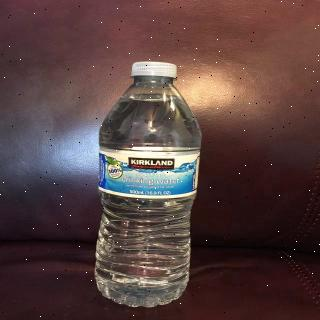Plastic-bottle: (89, 59, 200, 310)
